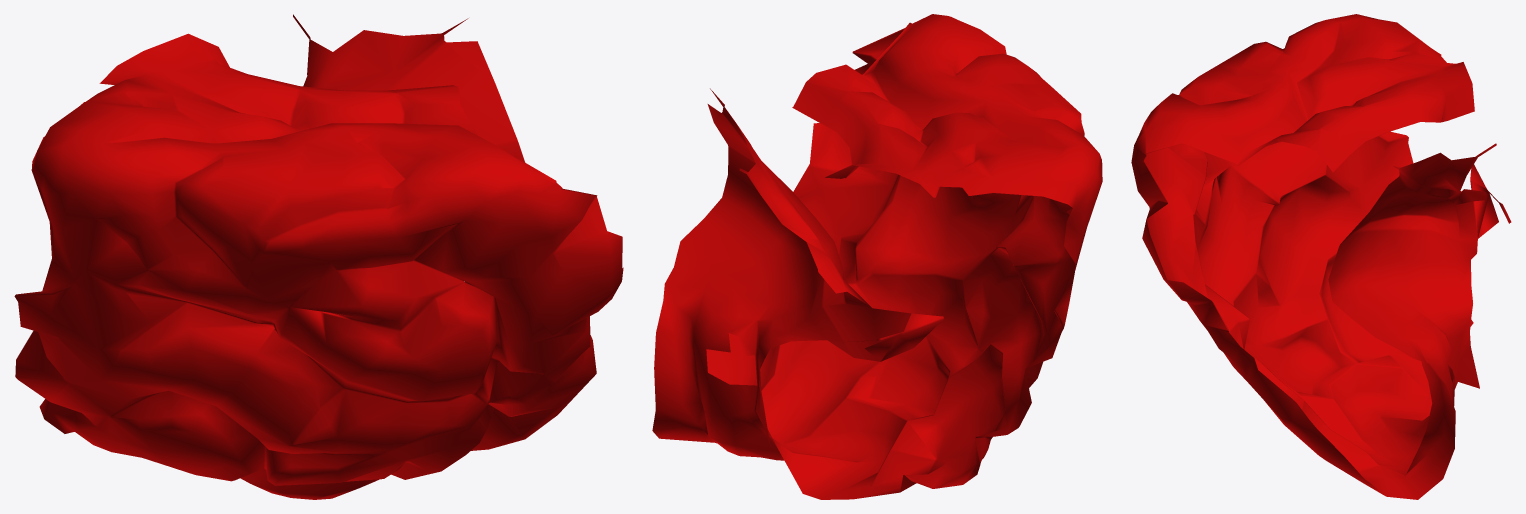
File: region_5.obj
3 renders of one model, left to right at view 1: azimuth 30°, elevation 25°; view 2: azimuth 150°, elevation 25°; view 3: azimuth 270°, elevation 25°, orthographic. The views are drawn at different scales.
Visible parts, largest first — view 1: ID41; view 2: ID41; view 3: ID41.
Part boxes in pixels (x1,y1,x2,y2): ID41: [14, 14, 623, 499]; ID41: [652, 14, 1102, 499]; ID41: [1131, 14, 1511, 499].
Bounding box in the file's own units: 93.08 × 75.78 × 80.34.
